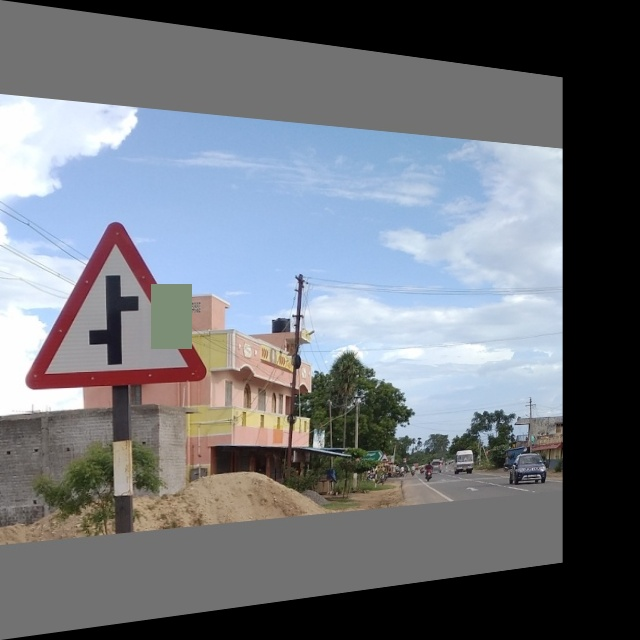Staggered_Intersection: (29, 211, 217, 392)
